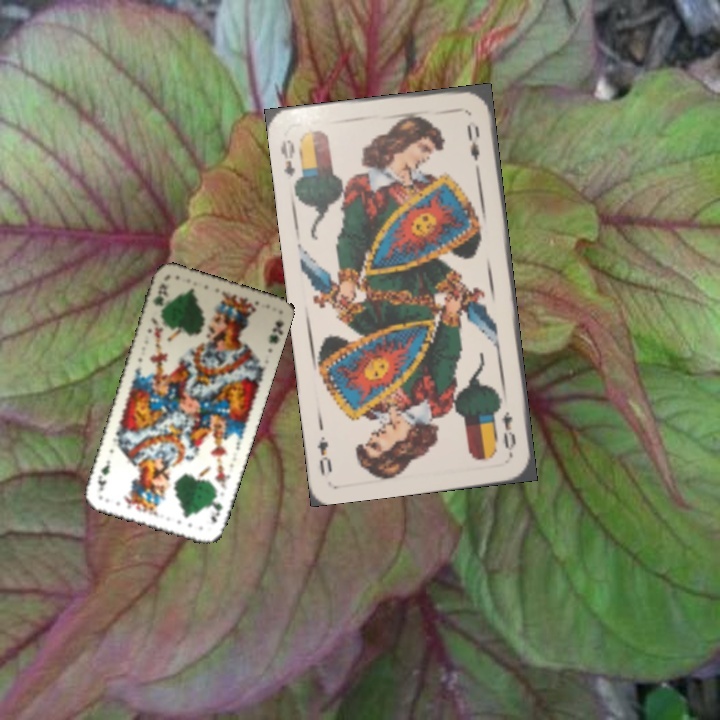EO: (497, 408, 519, 457), (276, 135, 298, 179)
GK: (207, 490, 225, 525), (149, 280, 170, 309)
